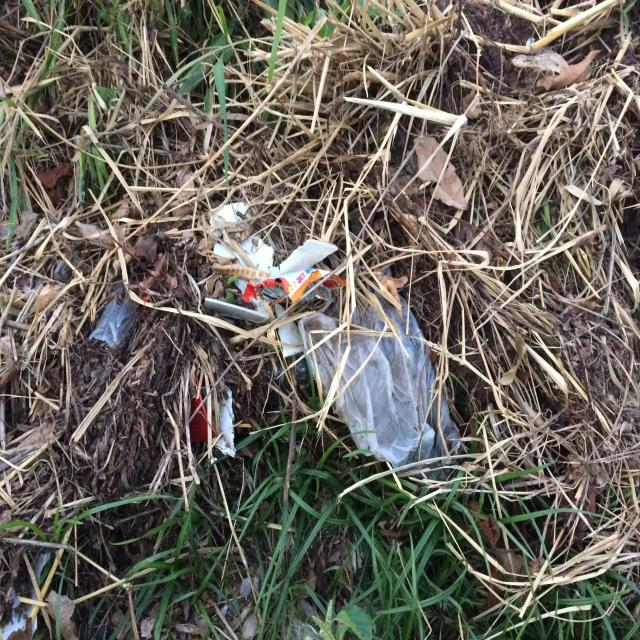litter: (88, 205, 453, 463)
